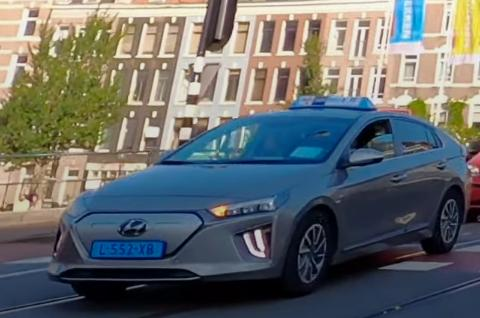license-plate: (89, 240, 164, 259)
